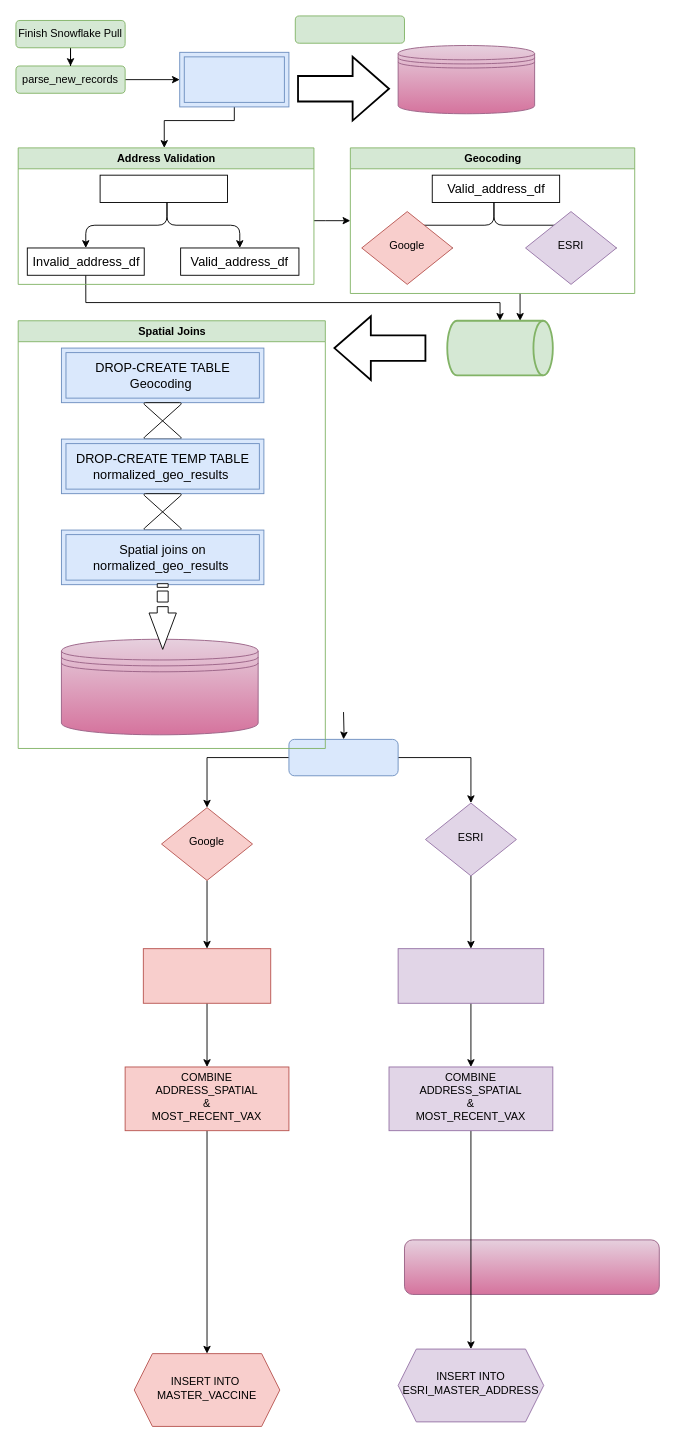
The diagram is 677 pixels wide and 1442 high, and some of its shapes have lost their labels. The centre of each missing label's shape, as x and y in pixels:
"<vaccine>_MASTER_VACCINE" goes at point (531, 1266).
"Begin spatial joins" goes at point (343, 757).
"DROP-CREATE most_recent_vax table" goes at point (234, 79).
"Geocoding Results" goes at point (499, 347).
"insert new addresses" goes at point (349, 29).
"INSERT SPATIAL JOINS INTO ADDRESS_SPATIAL" goes at point (206, 975).
"INSERT SPATIAL JOINS INTO ESRI_ADDRESS_SPATIAL" goes at point (470, 975).
"lac_master_address" goes at point (466, 79).
"lac_master_address_spatial" goes at point (159, 686).
"new_addresses_df" goes at point (163, 188).
